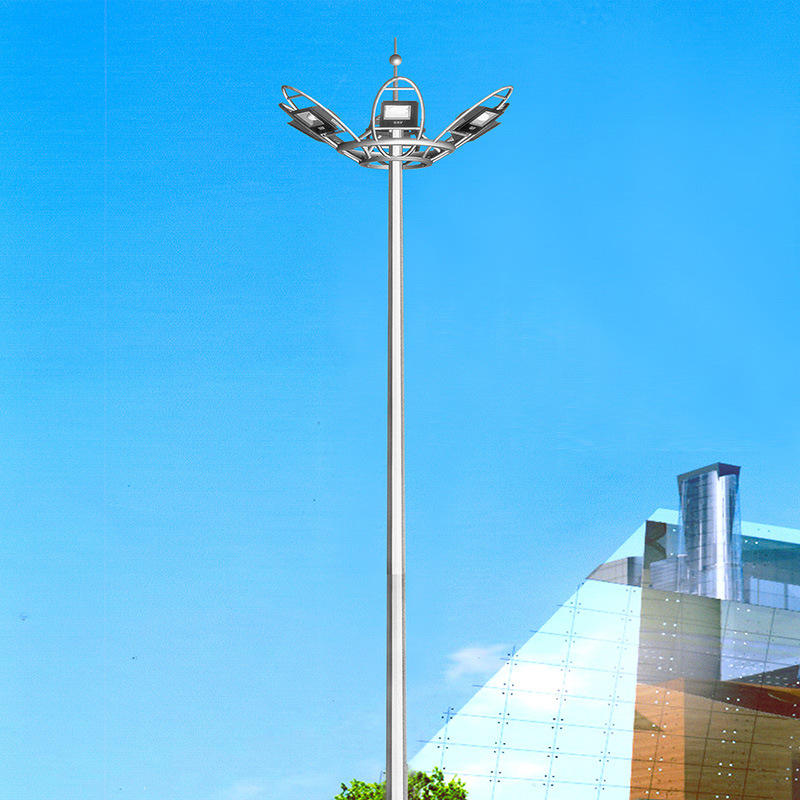light_pole: (374, 53, 426, 800)
